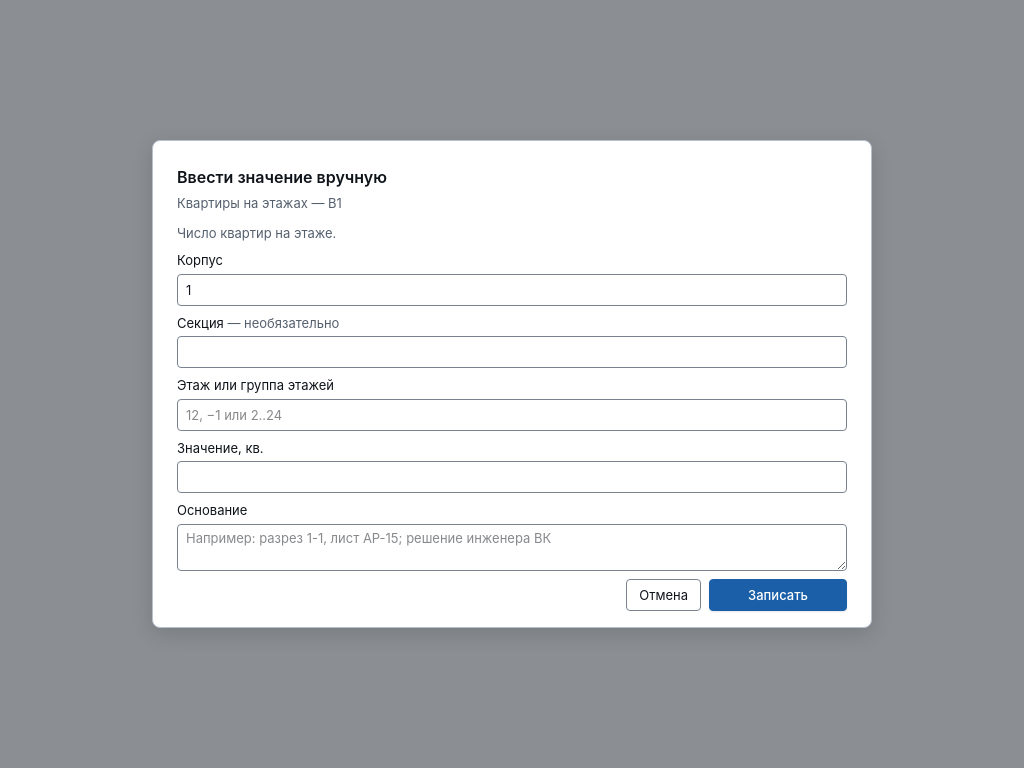
it: ручной ввод значения › без основания значение не записывается
Type "3" into the field labelled "Этаж или группа этажей" at coordinates (512, 415), box [177,399,847,431]
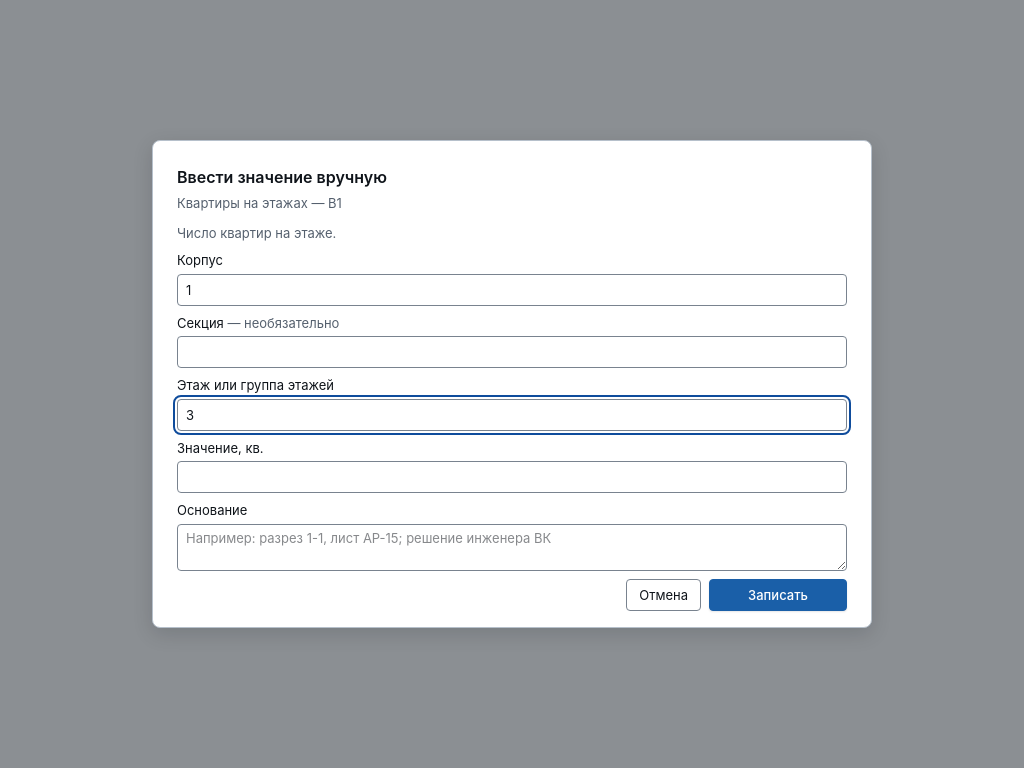
Type "9" into the field labelled "Значение, кв." at coordinates (512, 477), box [177,461,847,493]
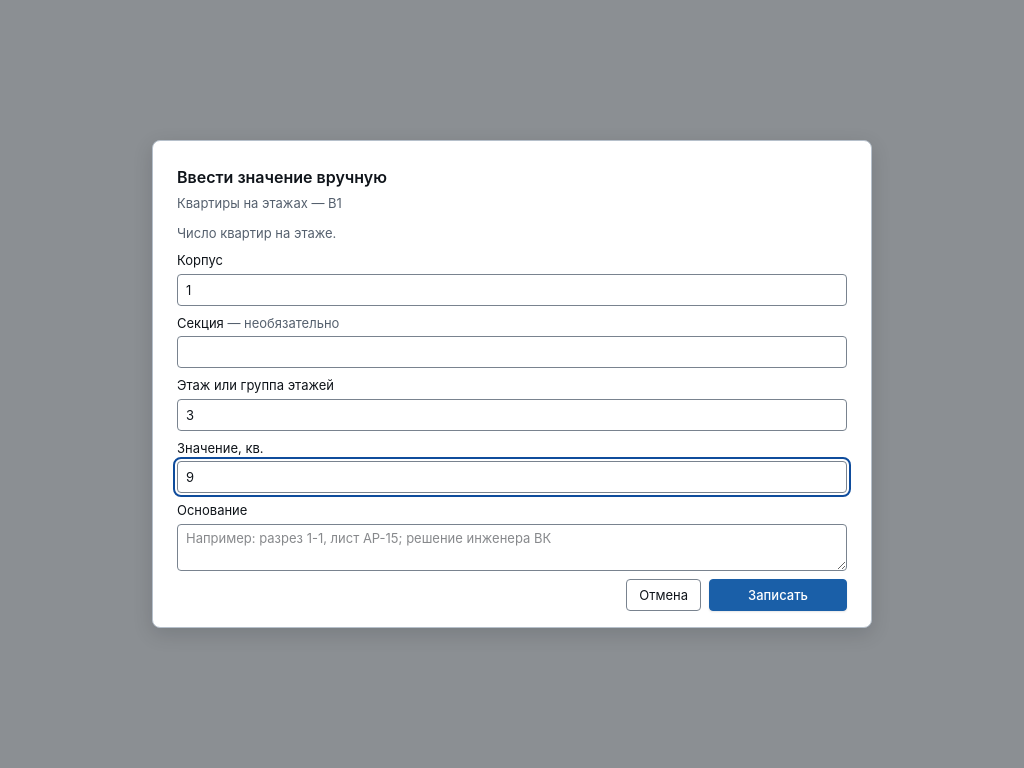
Click the button "Записать" at coordinates (778, 595), box [709,579,847,611]
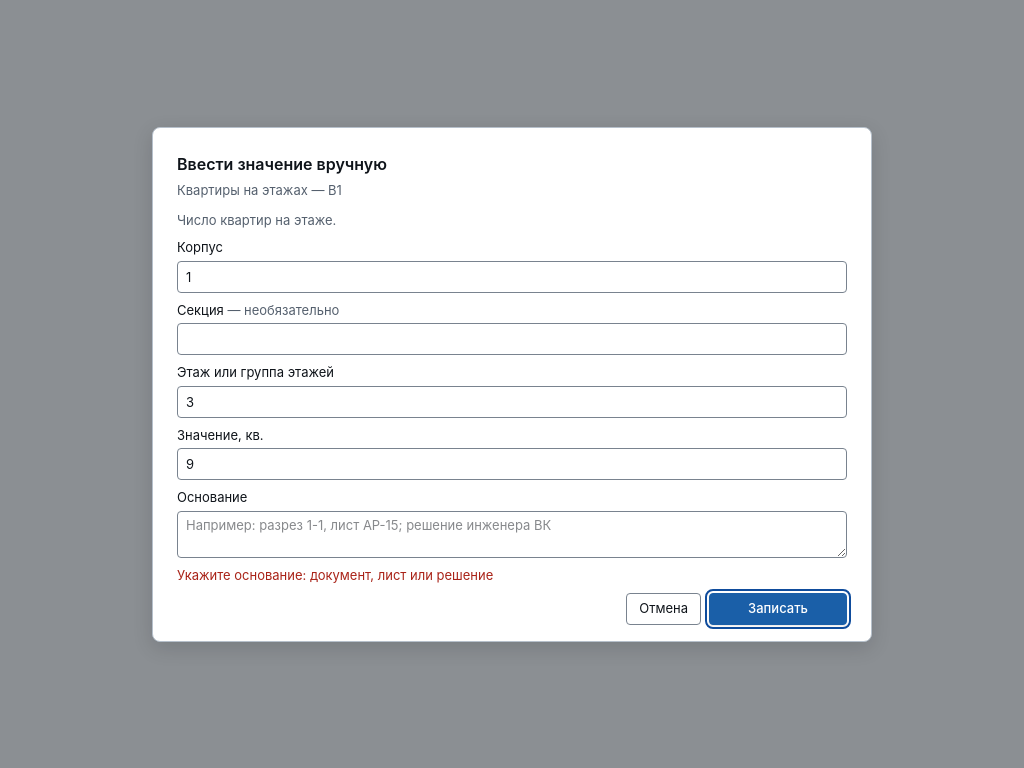
expect the text "Укажите основание: документ, лист или решение" is shown: met, box [177,567,493,583]
